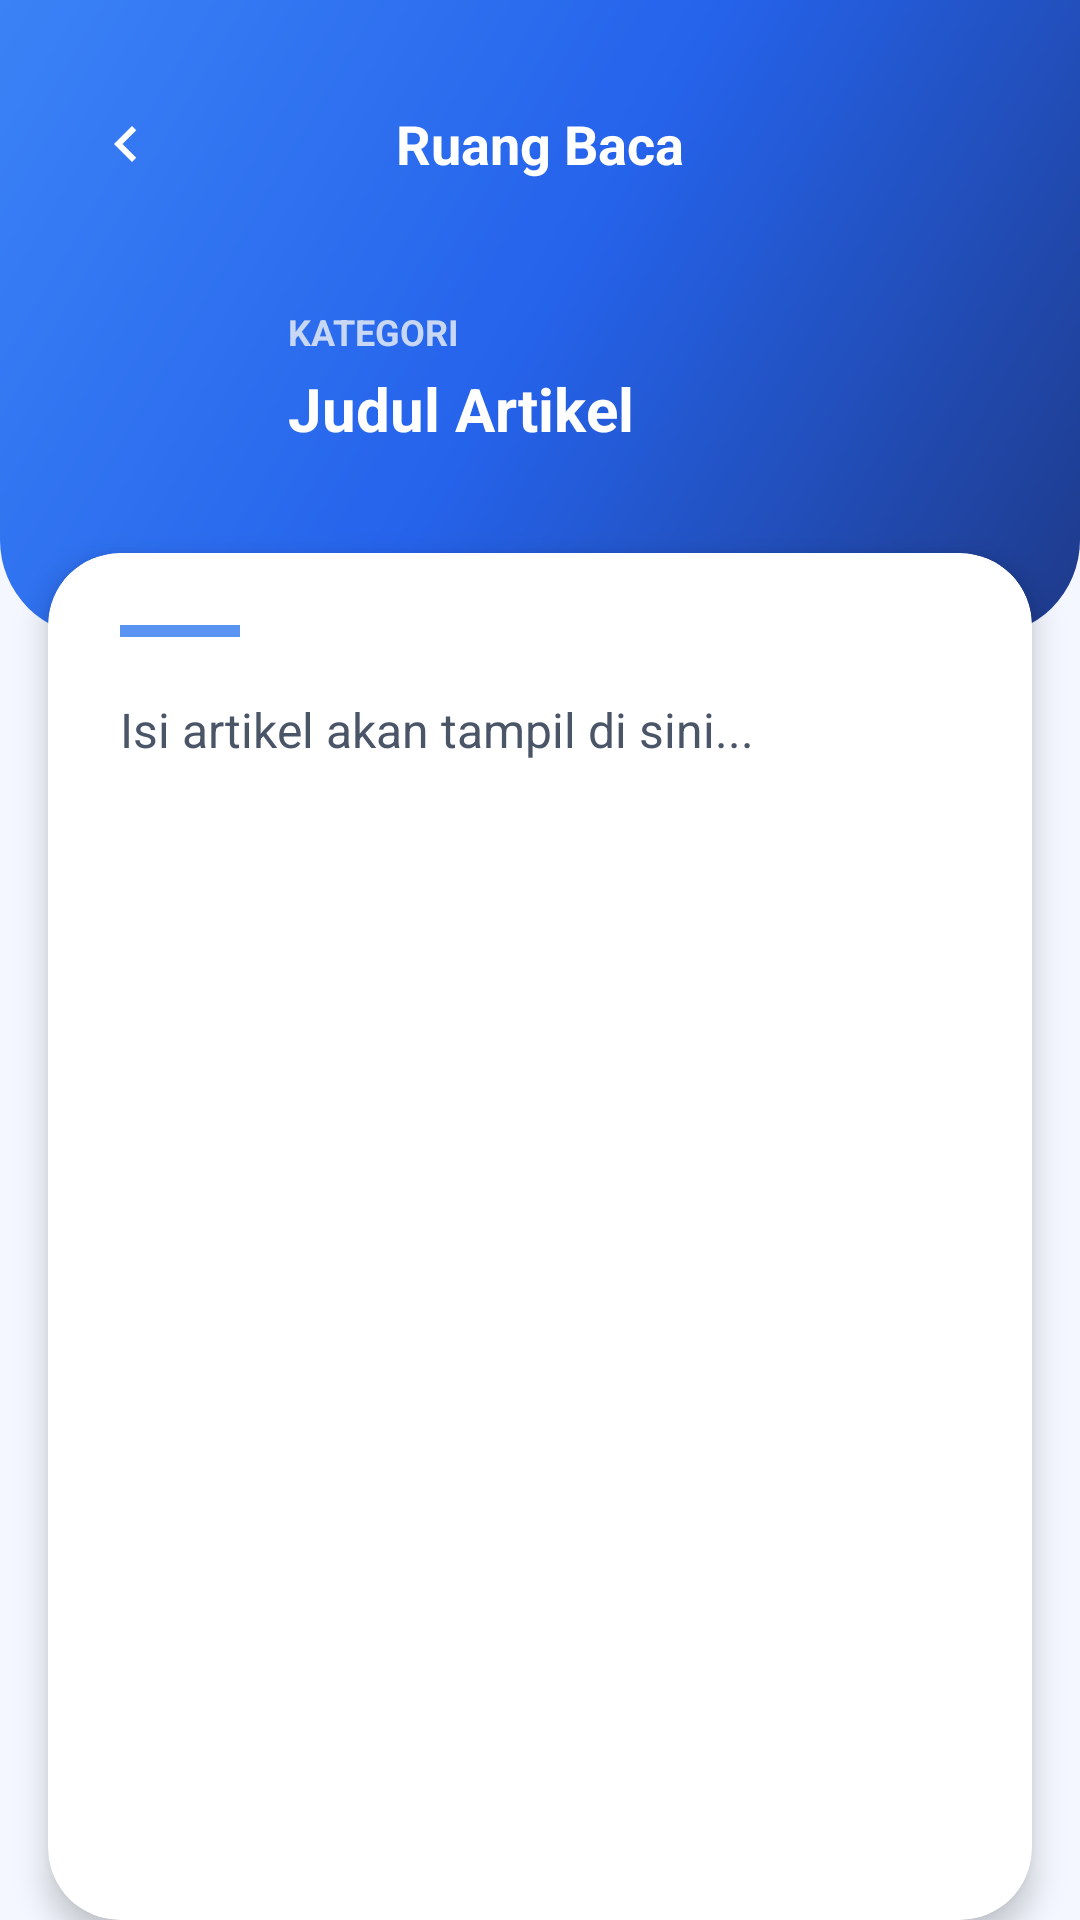

Where to tap for icons on this 1080x1920 app screen, as point (x, y):
chevron left: point (125, 144)
